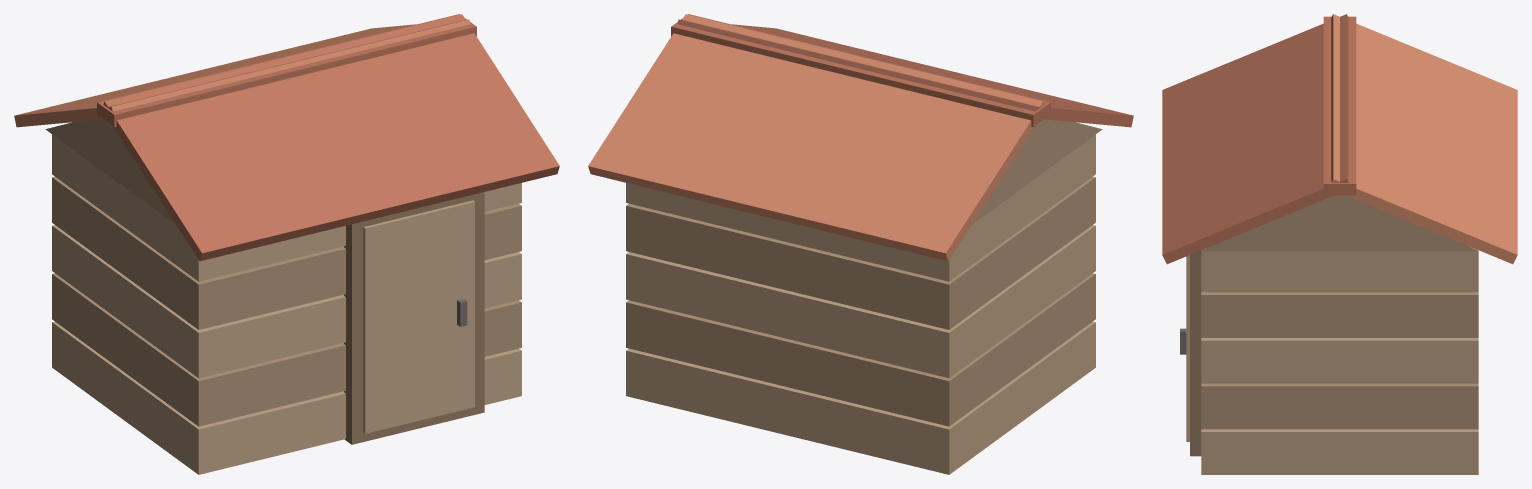
Rendered from yard_shed_v1.glb.
3 views of the same model, side by side, from view 1: azimuth 30°, elevation 25°; view 2: azimuth 150°, elevation 25°; view 3: azimuth 270°, elevation 25° (orthographic). The views are drawn at different scales.
Visible parts, largest first — view 1: Roof.-1, Door, Course.0, Course.2, Course.1, Course.3, Course.4, DoorFrame, Roof.1, Ridge, Gable.-1; view 2: Roof.1, Course.0, Course.1, Course.2, Course.3, Course.4, Roof.-1, Ridge, Gable.-1; view 3: Roof.1, Roof.-1, Course.1, Course.0, Course.2, Course.3, Course.4, Gable.1, Ridge, DoorFrame, Door.
Boxes of the visible parts, left/top/right/bottom form: Roof.-1: left=103, top=14, right=559, bottom=261; Door: left=363, top=200, right=474, bottom=433; Course.0: left=52, top=321, right=521, bottom=474; Course.2: left=52, top=225, right=521, bottom=378; Course.1: left=52, top=273, right=521, bottom=426; Course.3: left=52, top=176, right=521, bottom=329; Course.4: left=52, top=134, right=521, bottom=281; DoorFrame: left=344, top=192, right=484, bottom=444; Roof.1: left=14, top=19, right=470, bottom=127; Ridge: left=97, top=14, right=476, bottom=126; Gable.-1: left=45, top=119, right=175, bottom=224; Roof.1: left=588, top=14, right=1044, bottom=261; Course.0: left=626, top=321, right=1095, bottom=474; Course.1: left=626, top=273, right=1095, bottom=426; Course.2: left=626, top=225, right=1095, bottom=378; Course.3: left=626, top=176, right=1095, bottom=329; Course.4: left=626, top=134, right=1095, bottom=281; Roof.-1: left=677, top=19, right=1133, bottom=127; Ridge: left=671, top=14, right=1050, bottom=126; Gable.-1: left=972, top=119, right=1102, bottom=224; Roof.1: left=1331, top=14, right=1517, bottom=264; Roof.-1: left=1162, top=14, right=1348, bottom=264; Course.1: left=1201, top=383, right=1478, bottom=429; Course.0: left=1201, top=429, right=1478, bottom=474; Course.2: left=1201, top=338, right=1478, bottom=383; Course.3: left=1201, top=292, right=1478, bottom=337; Course.4: left=1201, top=251, right=1478, bottom=292; Gable.1: left=1201, top=195, right=1478, bottom=251; Ridge: left=1323, top=16, right=1356, bottom=195; DoorFrame: left=1190, top=250, right=1201, bottom=456; Door: left=1186, top=255, right=1189, bottom=441.
Bounding box in the file's own units: 3.14 × 2.67 × 2.82.
